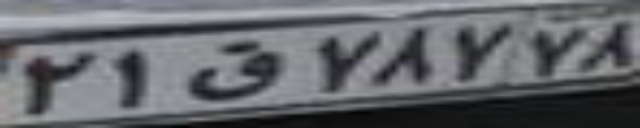1: (111, 46, 151, 108)
2: (23, 51, 96, 114)
7: (452, 22, 513, 82), (319, 30, 375, 93), (529, 24, 584, 76)
8: (377, 28, 434, 84), (588, 19, 638, 69)
ghaf: (189, 41, 284, 99)
